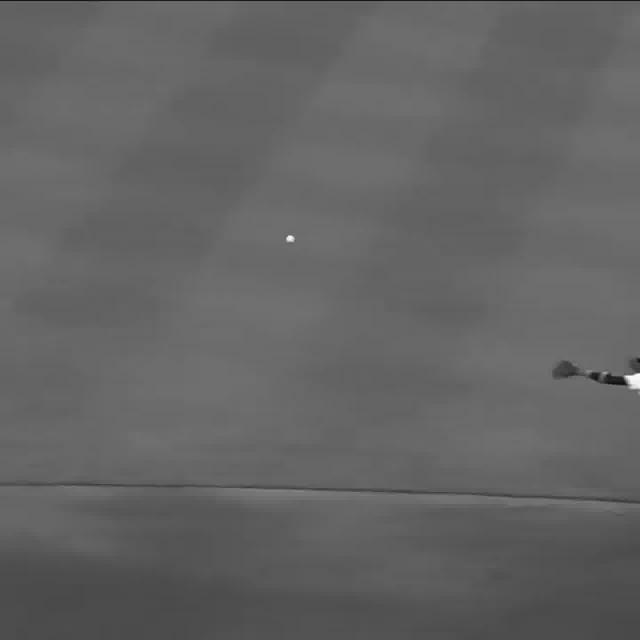baseball: (286, 234, 296, 243)
baseball_glove: (552, 359, 579, 382)
